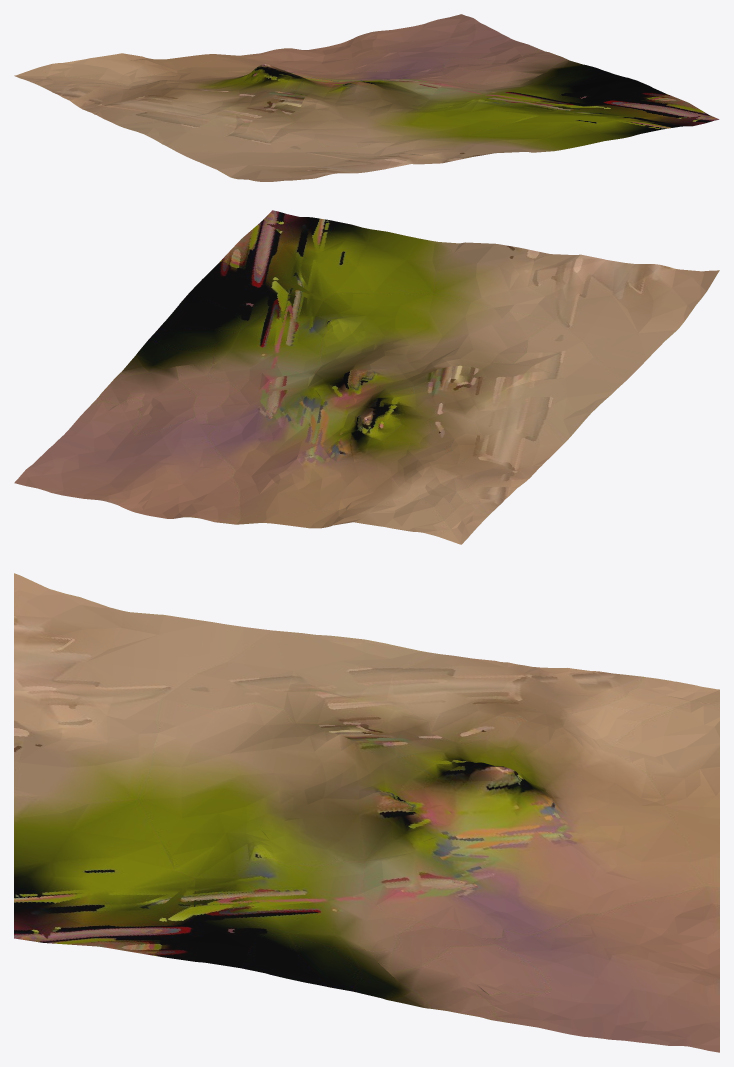
3 views of the same model, one above another, from view 1: azimuth 30°, elevation 25°; view 2: azimuth 150°, elevation 25°; view 3: azimuth 270°, elevation 25° (orthographic). The views are drawn at different scales.
Size of the model in its own units: 1.04 by 0.2975 by 1.04.
2 materials, 2 textured.
